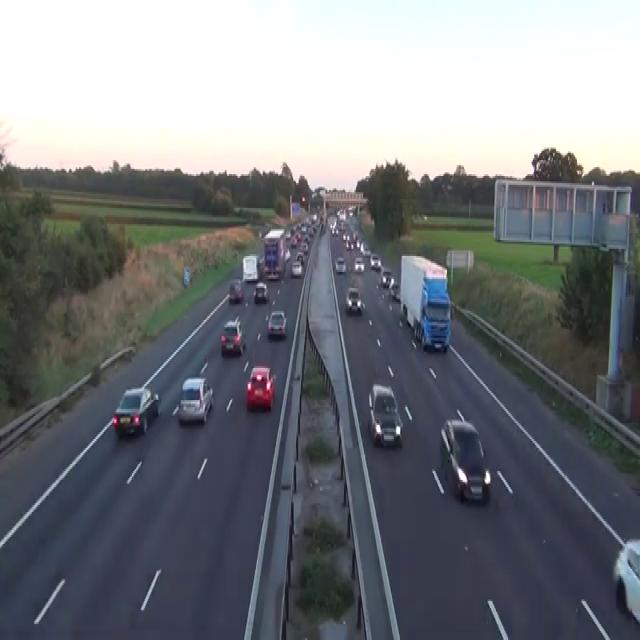Car: (440, 416, 491, 503), (112, 386, 160, 437), (613, 537, 639, 624), (285, 212, 319, 278), (367, 384, 402, 446), (177, 377, 213, 423), (246, 364, 275, 410), (220, 316, 244, 356), (267, 309, 286, 338), (345, 286, 362, 315), (228, 279, 244, 302), (253, 281, 268, 302), (380, 267, 393, 288), (389, 279, 400, 301), (335, 256, 346, 274), (291, 260, 302, 278), (370, 252, 381, 270), (354, 256, 364, 272), (360, 242, 370, 256), (295, 251, 304, 265), (336, 208, 346, 219), (267, 270, 279, 279), (284, 247, 290, 261), (300, 242, 308, 252), (388, 276, 394, 288), (348, 205, 355, 215), (346, 240, 353, 249), (332, 228, 339, 236), (285, 230, 291, 238), (312, 214, 317, 222), (258, 230, 262, 238)
Truck: (399, 254, 451, 352), (263, 228, 286, 279), (242, 254, 260, 281)
